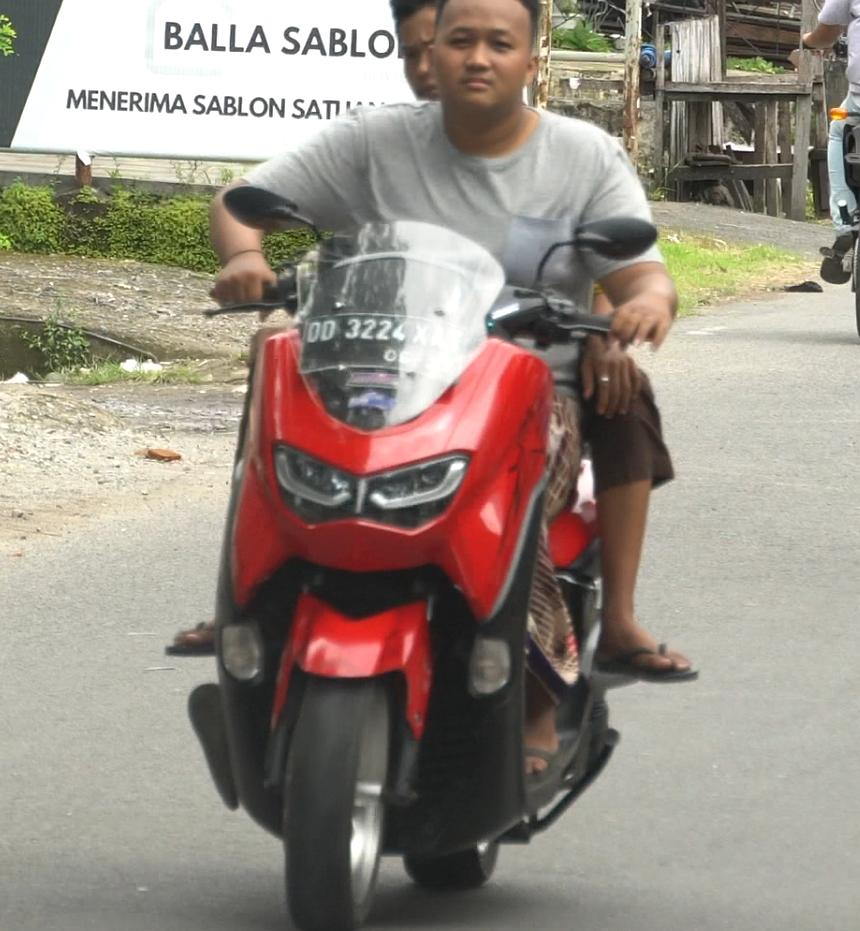number-plate: (291, 312, 468, 384)
